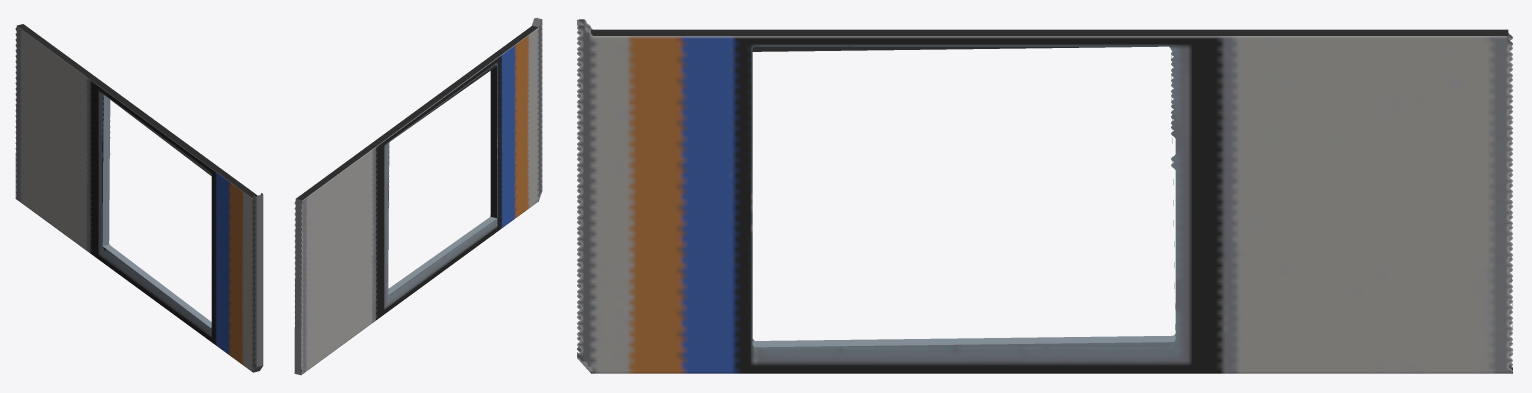
Rendered from pz_native_location_shop_fossoil_01_3_frame.obj.
3 views of the same model, side by side, from view 1: azimuth 30°, elevation 25°; view 2: azimuth 150°, elevation 25°; view 3: azimuth 270°, elevation 25° (orthographic). The views are drawn at different scales.
Parts seen in each view (by area): view 1: pz_native_location_shop_fossoil_01_3_frame; view 2: pz_native_location_shop_fossoil_01_3_frame; view 3: pz_native_location_shop_fossoil_01_3_frame.
Boxes of the visible parts, bbox=[...] form: pz_native_location_shop_fossoil_01_3_frame: bbox=[15, 24, 263, 372]; pz_native_location_shop_fossoil_01_3_frame: bbox=[294, 17, 542, 375]; pz_native_location_shop_fossoil_01_3_frame: bbox=[577, 19, 1512, 373].
Bounding box in the file's own units: 0.04 × 1.06 × 2.54.
1 material, 1 textured.
